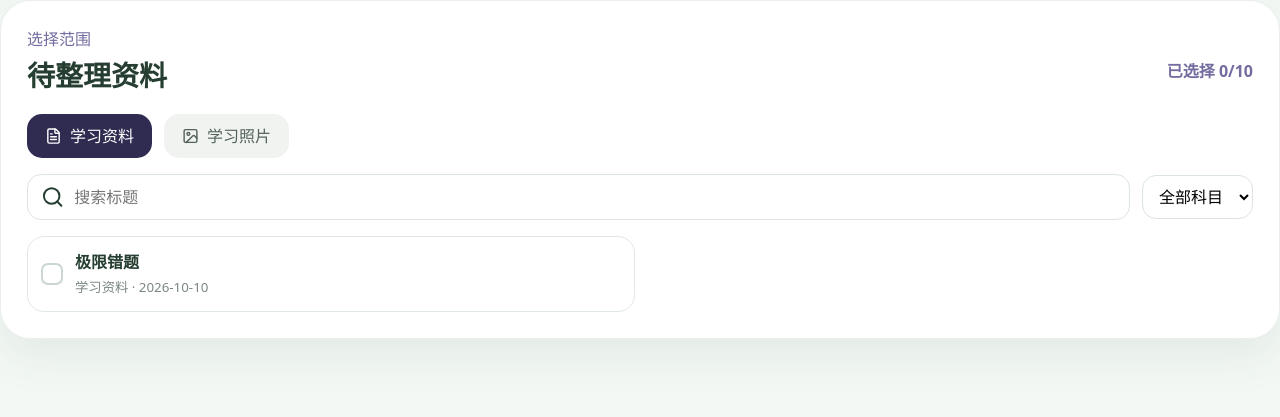
OrganizationCandidateList › filters by search and learning subject and excludes deleted records
This screenshot has width=1280, height=417.
Type "极限" into the search field named "搜索待整理资料" at x=594, y=197, box [72, 175, 1116, 219]
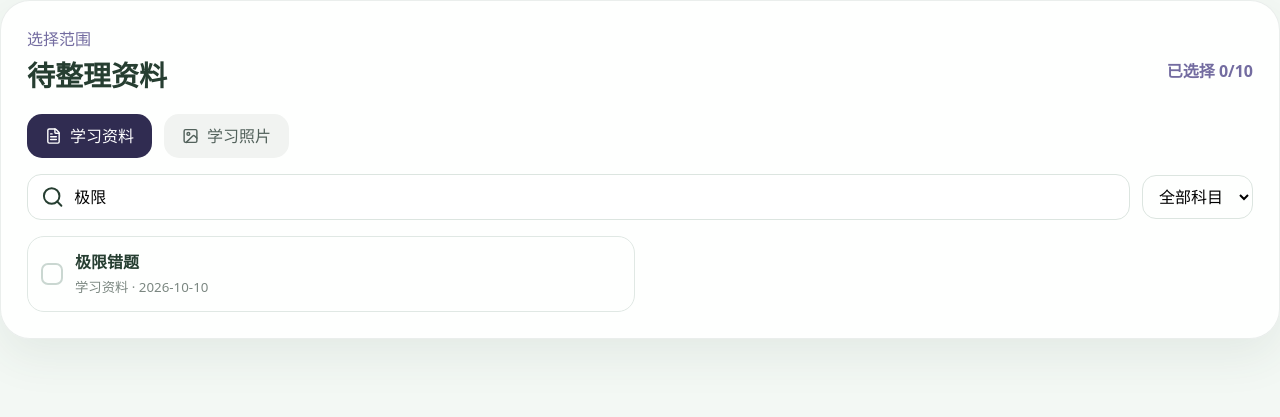
expect the text "极限错题" is shown: met, box [75, 251, 139, 273]
Select "英语" in the dropdown named "筛选科目" at x=1198, y=197, box [1142, 175, 1253, 219]
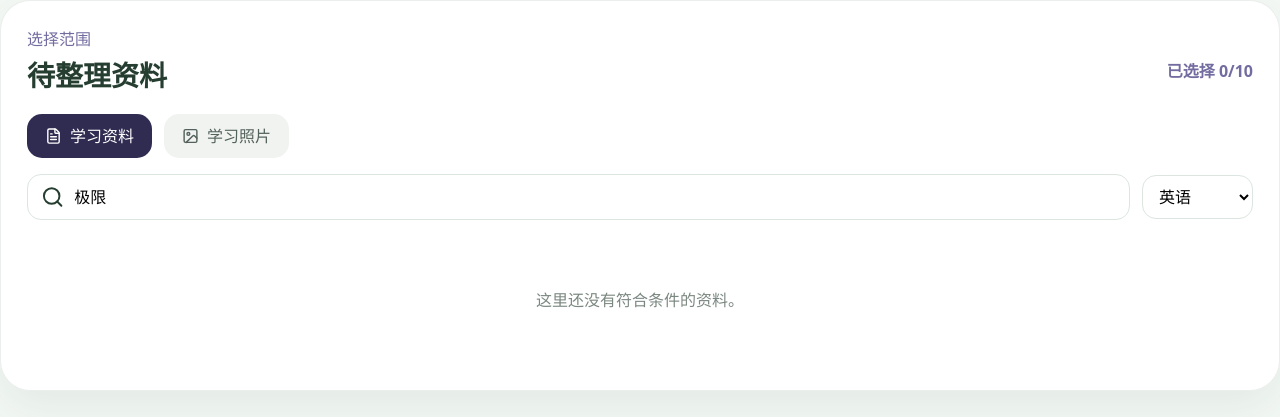
expect the text "极限错题" is gone: met
